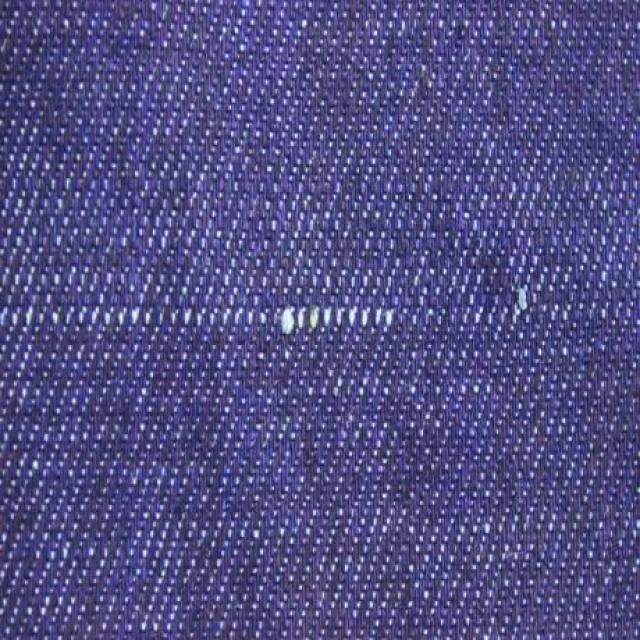Thread_other: (25, 237, 609, 403)
